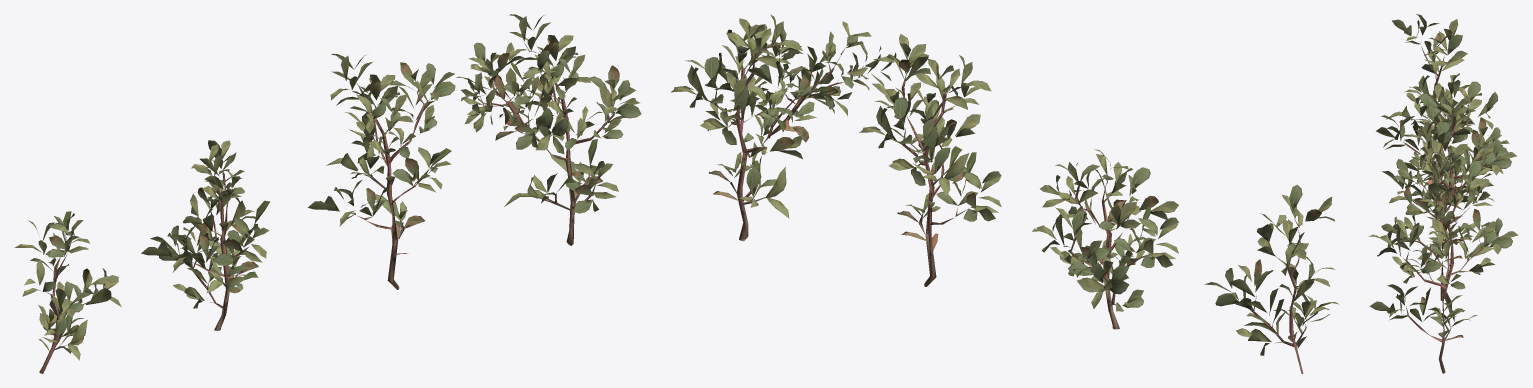
The model's file is shrub-c.glb.
3 views of the same model, side by side, from view 1: azimuth 30°, elevation 25°; view 2: azimuth 150°, elevation 25°; view 3: azimuth 270°, elevation 25° (orthographic). The views are drawn at different scales.
Visible parts, largest first — view 1: shrub_04; view 2: shrub_04; view 3: shrub_04.
Boxes of the visible parts, x1,y1,x2,y2 form: shrub_04: [14, 14, 641, 373]; shrub_04: [671, 14, 1338, 373]; shrub_04: [1368, 14, 1518, 373].
Size of the model in its own units: 0.5837 by 0.2192 by 0.1461.
Materials: 1 (1 with a texture image).
